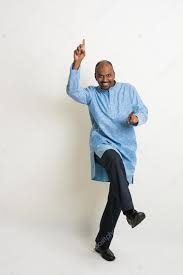Indian_Male: (94, 61, 118, 95)
